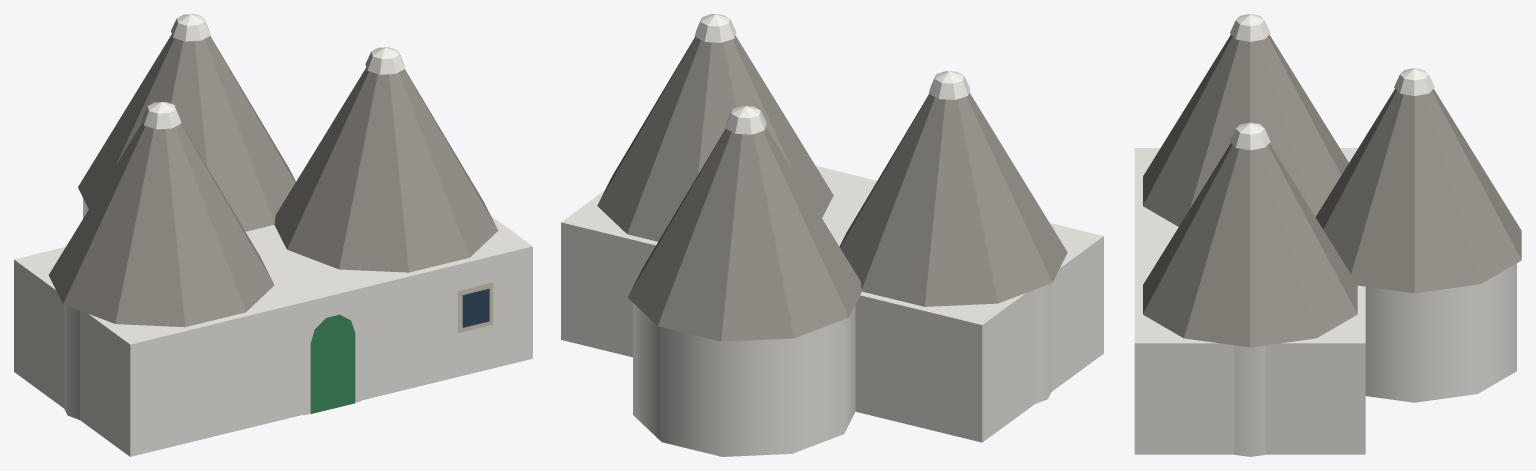
Rendered from trullo.glb.
The picture shows the model from 3 angles, left to right: view 1: azimuth 30°, elevation 25°; view 2: azimuth 150°, elevation 25°; view 3: azimuth 270°, elevation 25°; orthographic projection. The views are drawn at different scales.
Visible parts, largest first — view 1: trullo; view 2: trullo; view 3: trullo.
Part boxes in pixels (left/top/right/bottom): trullo: left=14, top=14, right=532, bottom=456; trullo: left=561, top=14, right=1103, bottom=456; trullo: left=1134, top=14, right=1521, bottom=456.
Bounding box in the file's own units: 9.4 × 6.2 × 7.59.
Materials: 1 (1 with a texture image).
